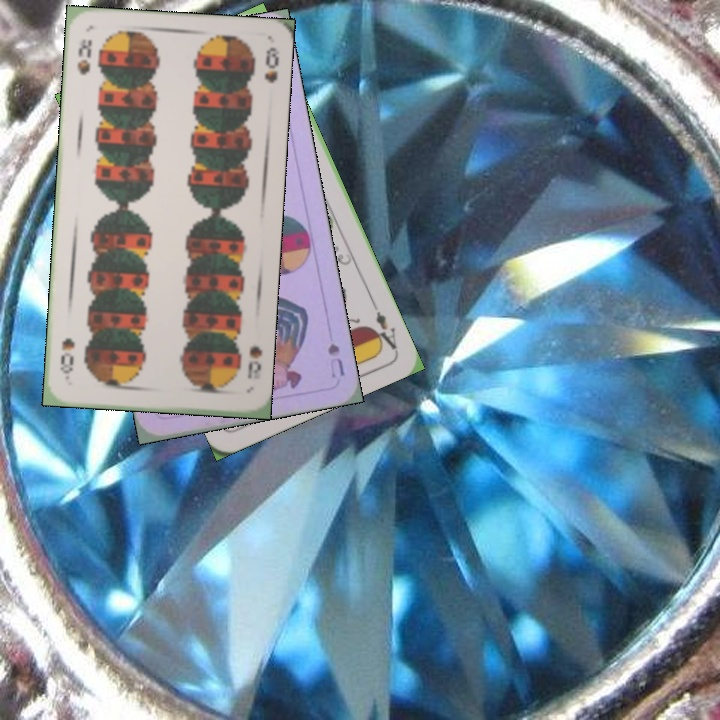EA: (368, 298, 399, 353)
S8: (73, 35, 95, 78), (243, 342, 265, 381)
SU: (323, 339, 347, 381)
